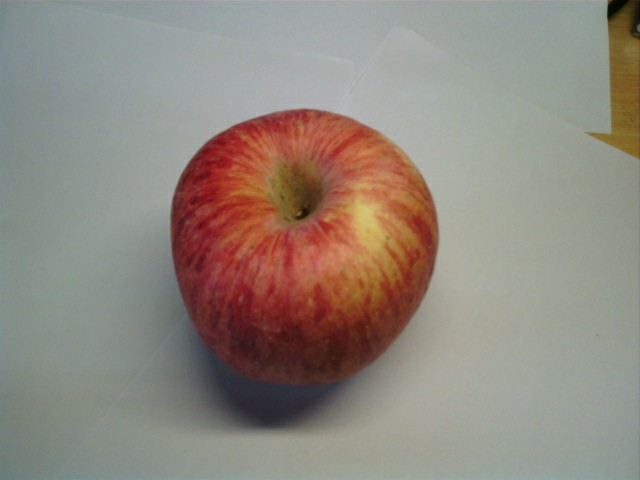normal_apple: (168, 106, 438, 391)
